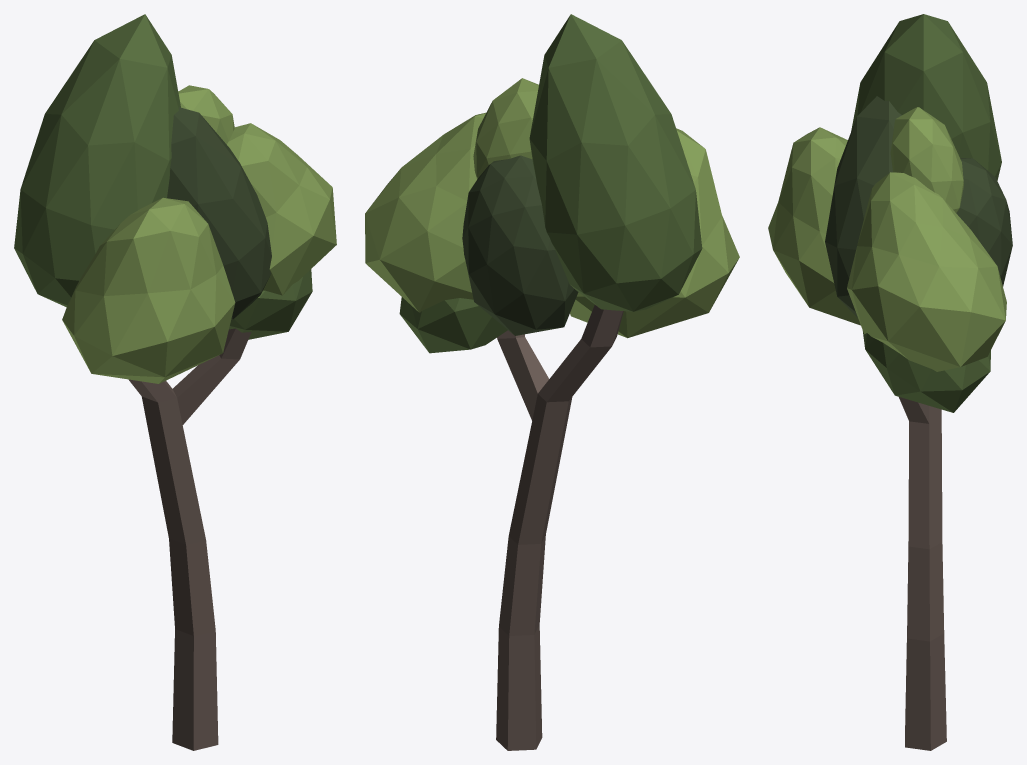
The model's file is 2_2 Oaktree_1.fbx.
3 views of the same model, side by side, from view 1: azimuth 30°, elevation 25°; view 2: azimuth 150°, elevation 25°; view 3: azimuth 270°, elevation 25° (orthographic). The views are drawn at different scales.
Visible parts, largest first — view 1: Tree_birch_full_1.001; view 2: Tree_birch_full_1.001; view 3: Tree_birch_full_1.001.
Part boxes in pixels (<box>): Tree_birch_full_1.001: <box>14,14,336,750</box>; Tree_birch_full_1.001: <box>365,14,739,750</box>; Tree_birch_full_1.001: <box>768,14,1012,750</box>.
Bounding box in the file's own units: 837 × 1916 × 604.
